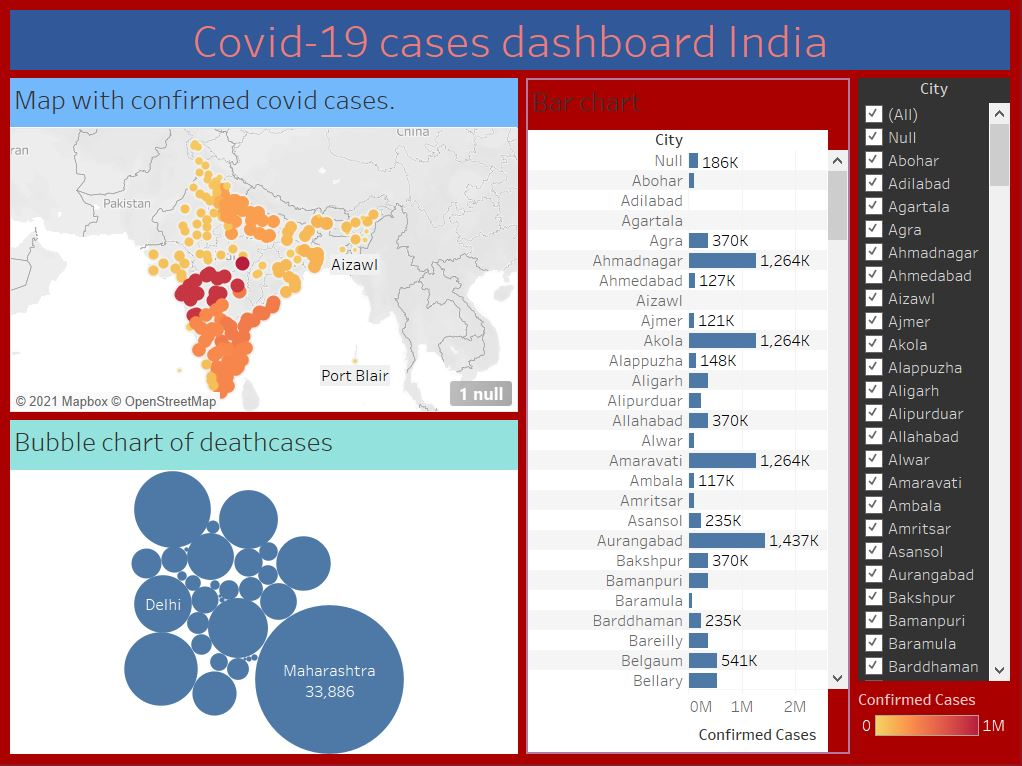

The page's visual inventory and layout, read from the dashboard file:
{"tool":"tableau","page":{"name":"covid -19 India","canvas":[1024,768],"ordinal":0},"visuals":[{"type":"title","box":[8,8,1008,68]},{"type":"worksheet","title":"map of confirmed covid cases","mark":"Automatic","rows":["Lat"],"cols":["Long"],"box":[8,76,424,405]},{"type":"worksheet","title":"Bubble chart of deathcases","mark":"Circle","box":[432,76,424,405]},{"type":"filter","title":"map of confirmed covid cases","param":"[federated.0qdv7360dlvx7a1fp6dvv0el31kq].[none:City:nk]","box":[856,76,160,611]},{"type":"worksheet","title":"Bar chart","mark":"Automatic","rows":["City"],"cols":["active_cases"],"box":[8,481,848,279]},{"type":"legend","title":"map of confirmed covid cases","param":"[federated.0qdv7360dlvx7a1fp6dvv0el31kq].[sum:confirmed_cases:qk]","box":[856,687,160,73]}]}

Visuals, with their boxes in screenshot pixels (x1, y1, x2, y2), scaled from the page's 1024x768 canvas onto the 1022x766 screenshot:
title: pyautogui.locateOnScreen(8, 8, 1014, 76)
"map of confirmed covid cases" worksheet: pyautogui.locateOnScreen(8, 76, 431, 480)
"Bubble chart of deathcases" worksheet (Circle marks): pyautogui.locateOnScreen(431, 76, 854, 480)
"map of confirmed covid cases" filter: pyautogui.locateOnScreen(854, 76, 1014, 685)
"Bar chart" worksheet: pyautogui.locateOnScreen(8, 480, 854, 758)
"map of confirmed covid cases" legend: pyautogui.locateOnScreen(854, 685, 1014, 758)
